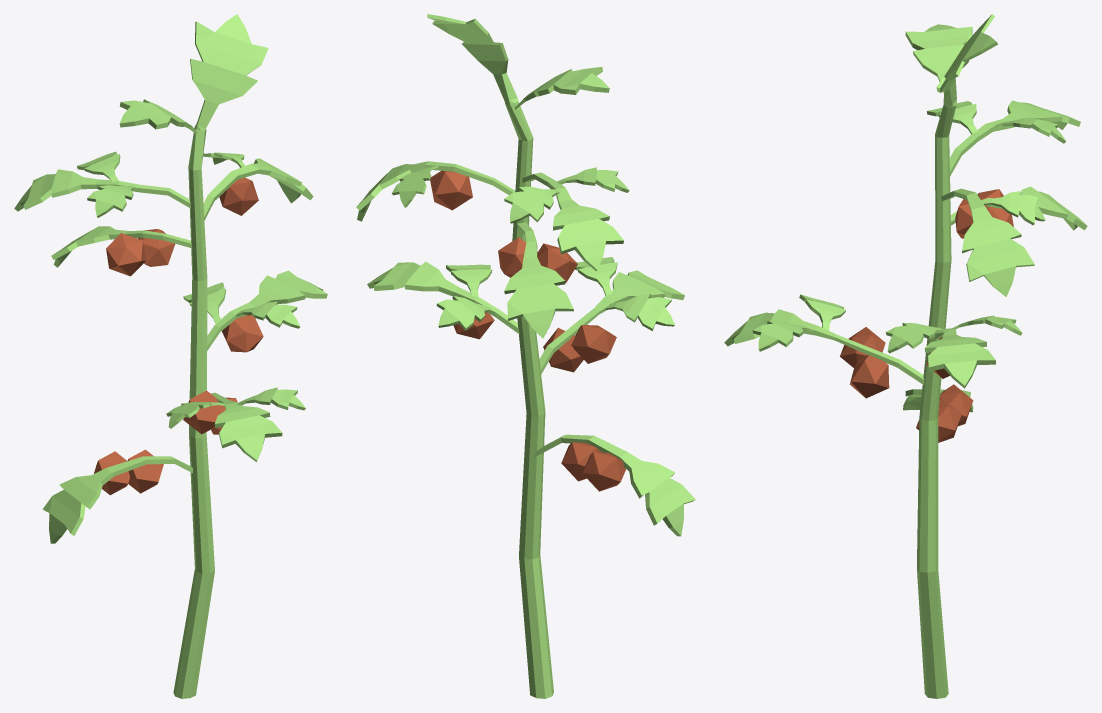
File: tomato_4.glb
3 renders of one model, left to right at view 1: azimuth 30°, elevation 25°; view 2: azimuth 150°, elevation 25°; view 3: azimuth 270°, elevation 25°, orthographic. The views are drawn at different scales.
Parts seen in each view (by area): view 1: Tomato_4; view 2: Tomato_4; view 3: Tomato_4.
Part boxes in pixels (box(x1,y1,x2,y2)): Tomato_4: box(14, 14, 327, 698); Tomato_4: box(356, 14, 695, 698); Tomato_4: box(724, 14, 1087, 698).
Bounding box in the file's own units: 0.7931 × 1.72 × 0.8099.
